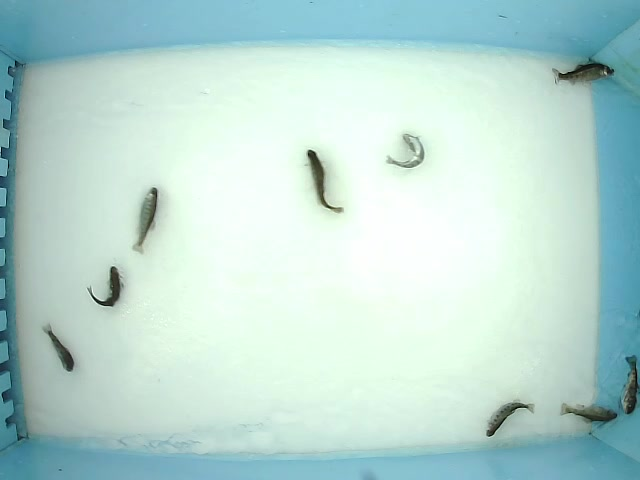fish: (303, 149, 345, 214), (484, 399, 537, 439), (131, 186, 160, 257), (551, 56, 615, 88), (39, 321, 76, 373), (86, 264, 125, 309), (384, 133, 426, 170), (558, 399, 619, 424), (620, 355, 640, 414)
